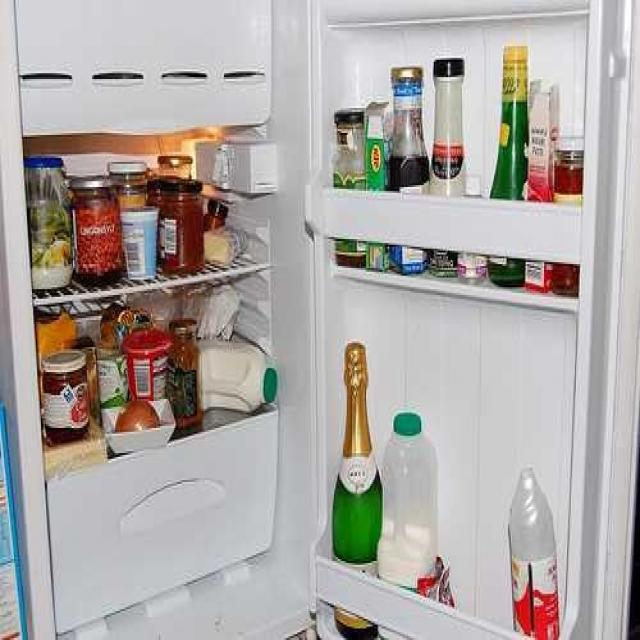refrigerator: (7, 0, 626, 640)
